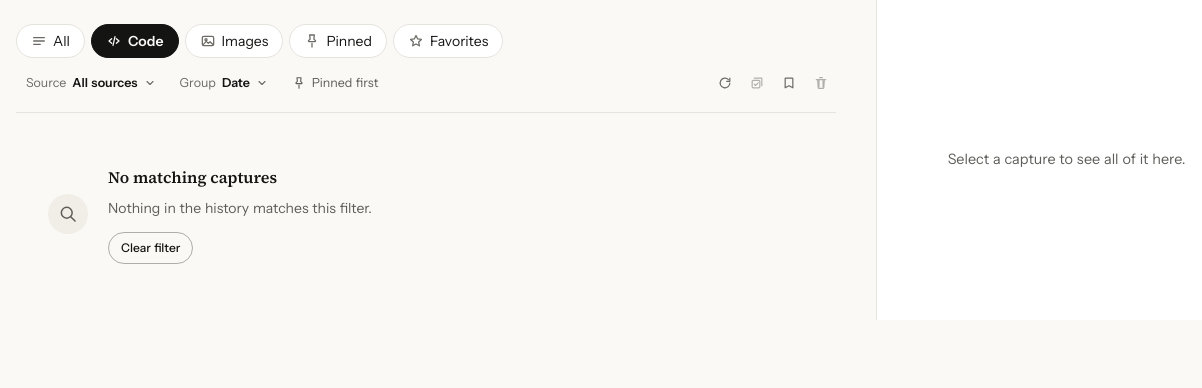
Test: ClipboardPage › names the narrowing that emptied the list, and offers the way out
Check: the heading "No matching captures" is shown, box 108,166 -> 277,188
Click the button "Clear filter".
click(151, 248)  # box 108,232 -> 193,264
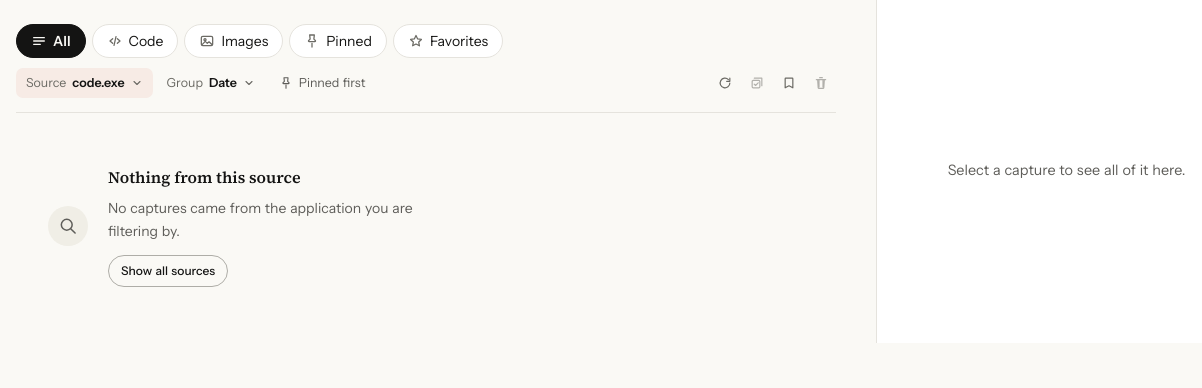
Check: the heading "Nothing from this source" is shown, box 108,166 -> 301,188
Click the button "Show all sources".
click(168, 270)  # box 108,254 -> 228,286
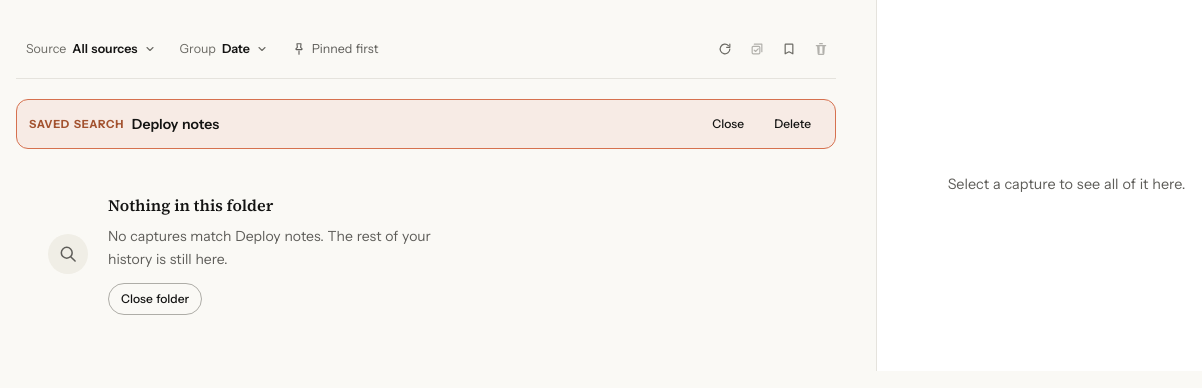
Check: the heading "Nothing in this folder" is shown, box 108,194 -> 273,216
Check: the text "No captures match Deploy notes" is shown, box 108,227 -> 431,268
Click the button "Close folder".
click(155, 298)  # box 108,282 -> 202,314
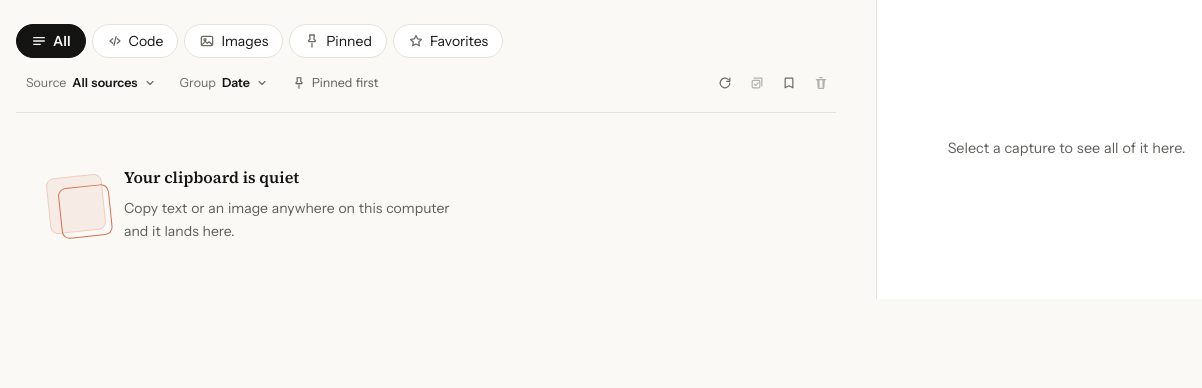
Check: the heading "Your clipboard is quiet" is shown, box 124,166 -> 299,188
